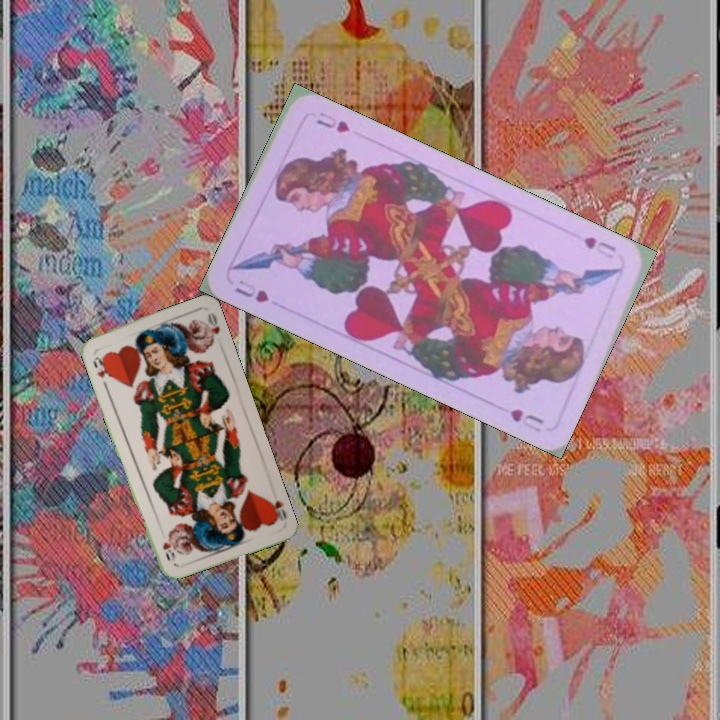HO: (263, 493, 289, 524), (89, 352, 113, 380)
HU: (231, 275, 272, 306), (579, 232, 619, 262)
